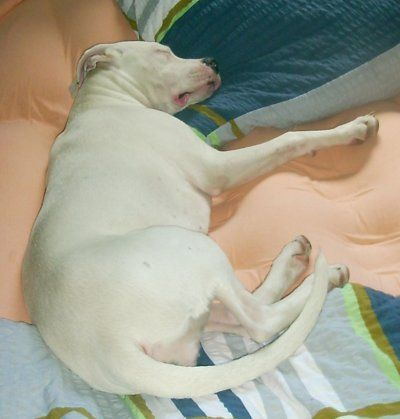dogo_argentino: (21, 40, 379, 399)
